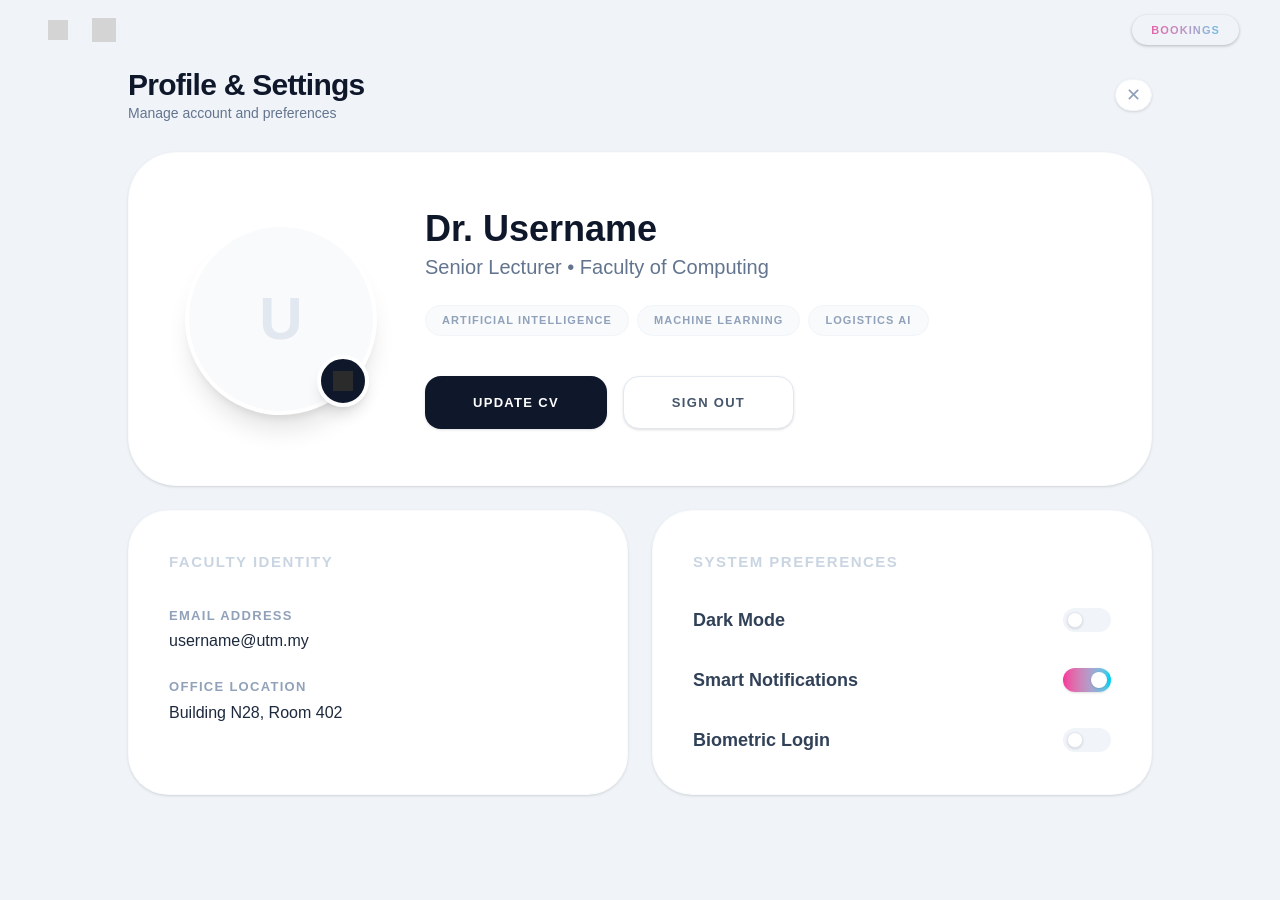
Scenario: ProfileSettings › opens kebab menu for chat history item
Click the 1st button with alt text "Menu": (58,30) [40, 12, 76, 48]
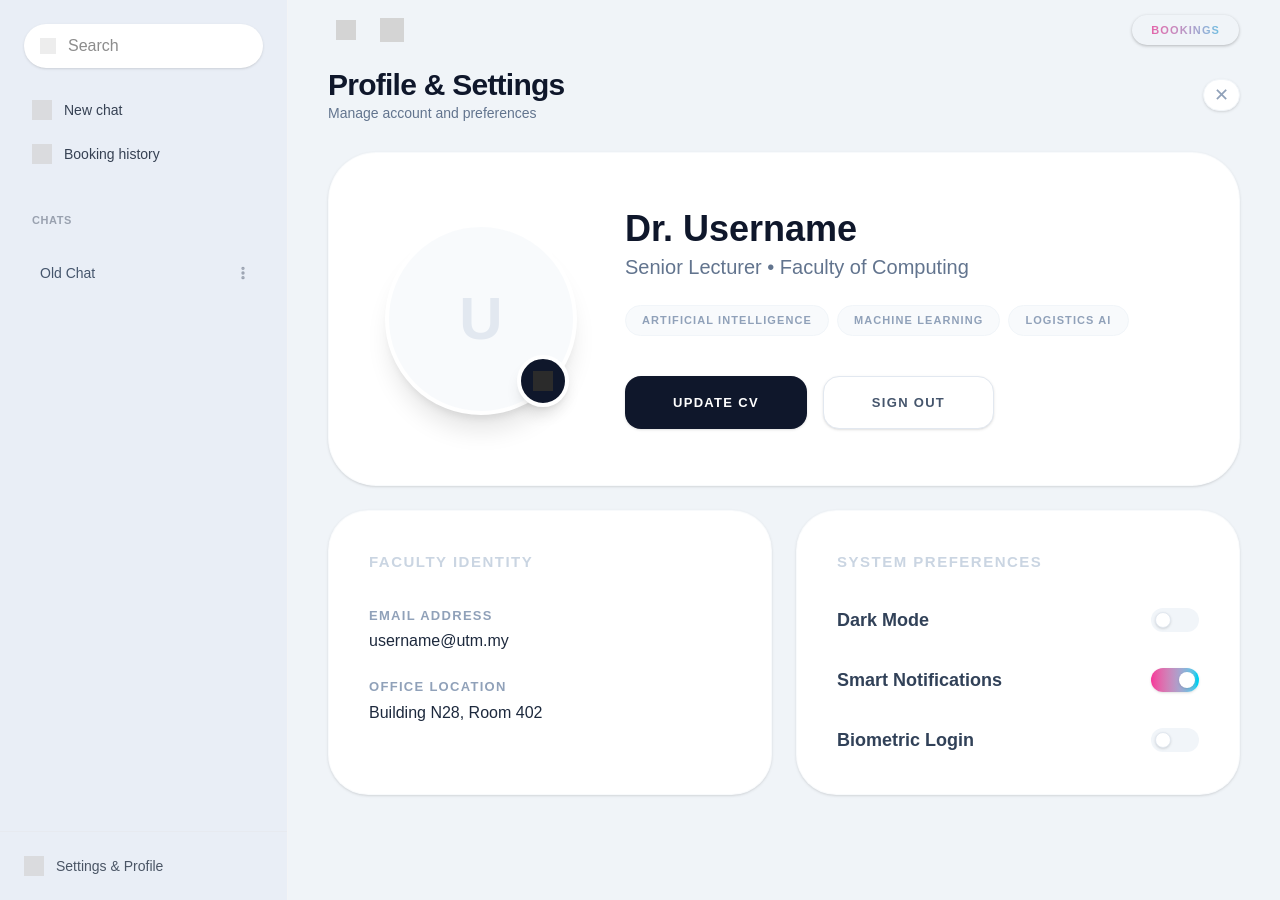
Click the button titled "Options": (243,272) [231, 260, 255, 284]
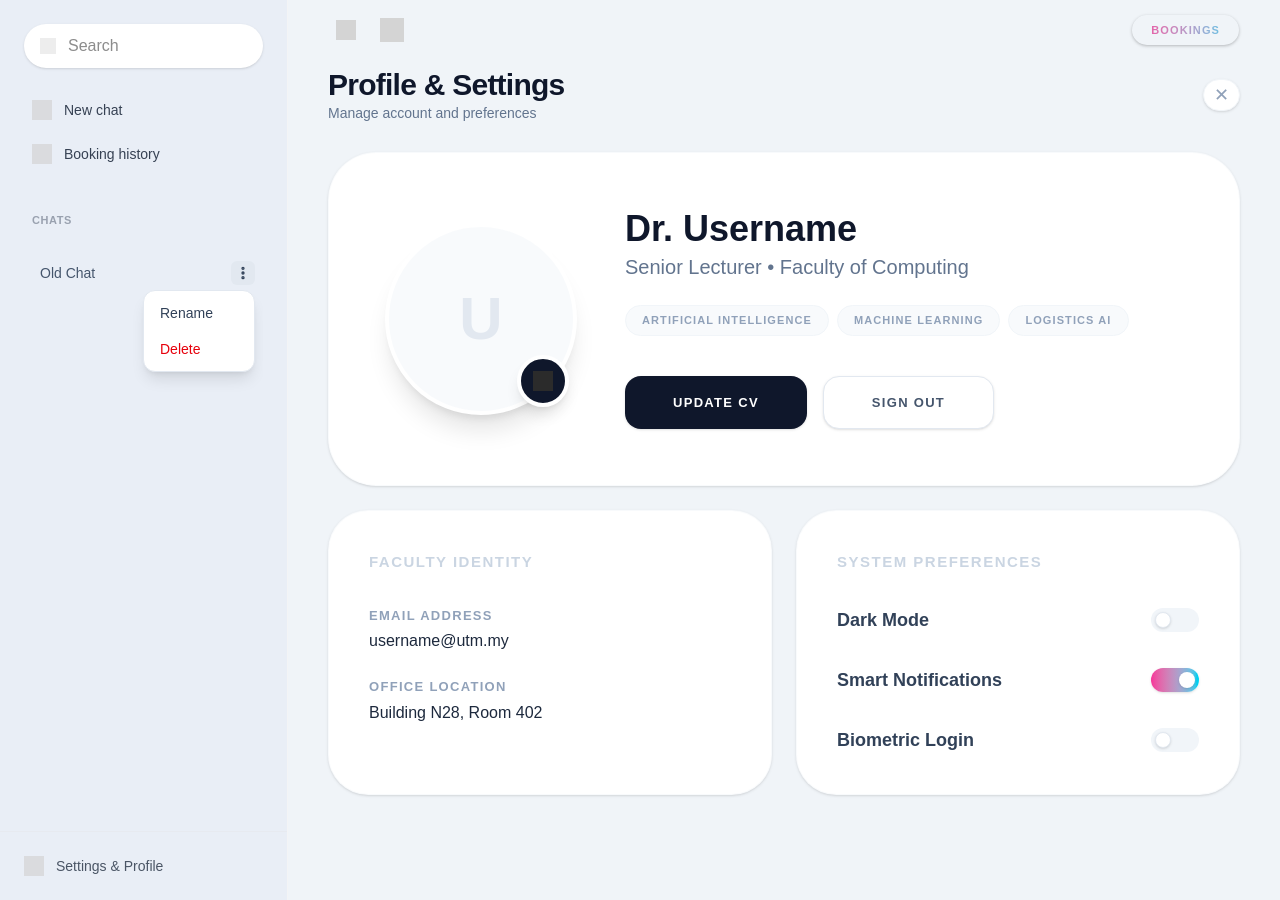
Expected: the button "Rename" is shown, [144, 294, 254, 330]
Expected: the button "Delete" is shown, [144, 330, 254, 366]
